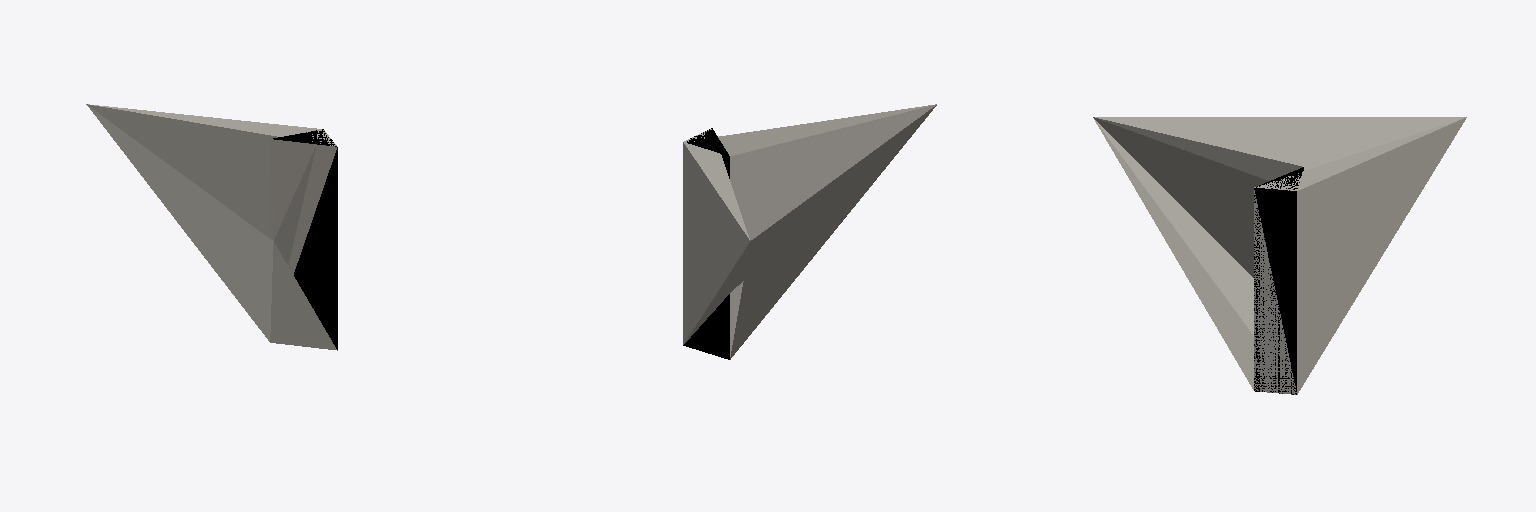
Rendered from prism.obj.
The picture shows the model from 3 angles: view 1: azimuth 30°, elevation 25°; view 2: azimuth 150°, elevation 25°; view 3: azimuth 270°, elevation 25°; orthographic projection.
Parts seen in each view (by area): view 1: leftBox, prism0, floor; view 2: leftBox, prism0; view 3: leftBox, prism0.
Part boxes in pixels (x1,y1,x2,y2): leftBox: (86, 104, 337, 350); prism0: (273, 129, 337, 349); floor: (270, 139, 336, 274); leftBox: (683, 104, 936, 359); prism0: (683, 128, 729, 359); leftBox: (1093, 117, 1466, 394); prism0: (1254, 167, 1303, 394).
Size of the model in its own units: 0.9383 by 1.2 by 2.